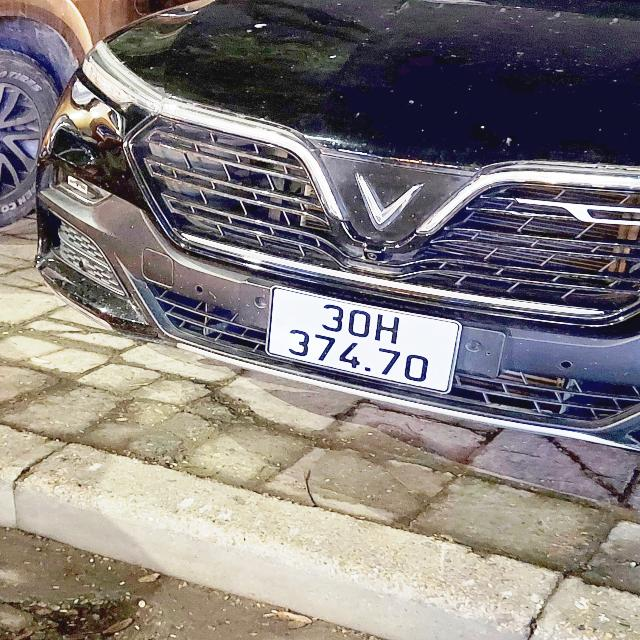license_plate: (260, 282, 472, 402)
